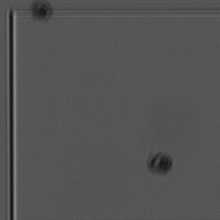Dead Cell: (147, 149, 180, 182), (28, 1, 58, 31)
